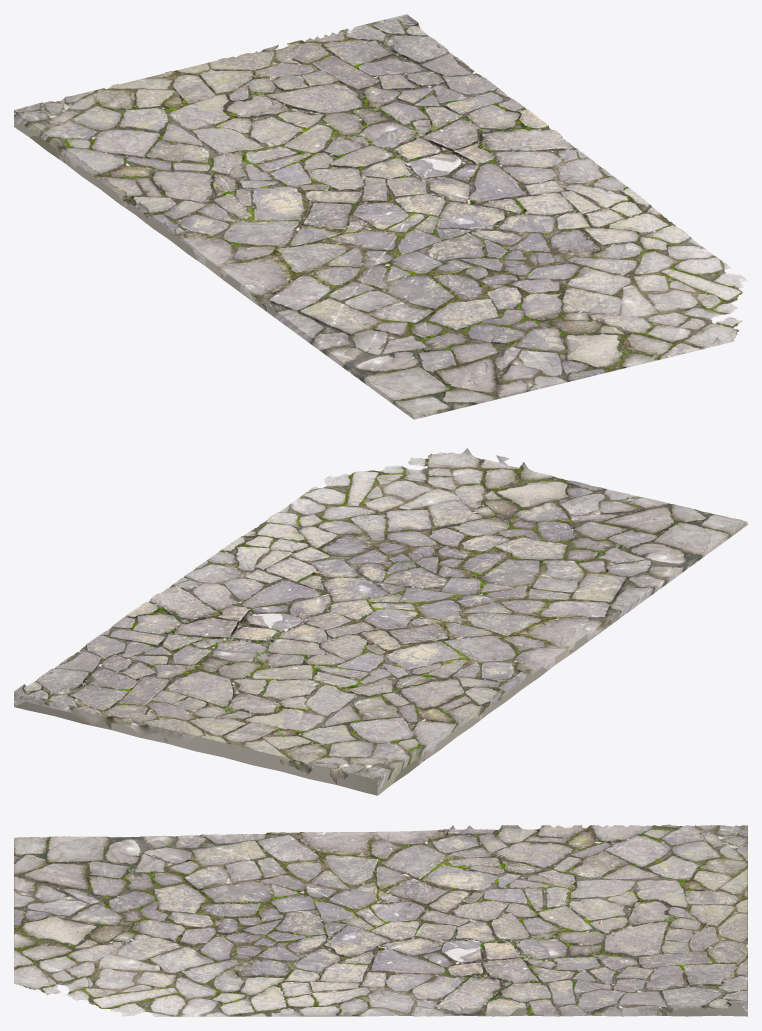
The model's file is ground.glb.
The picture shows the model from 3 angles, top to bottom: view 1: azimuth 30°, elevation 25°; view 2: azimuth 150°, elevation 25°; view 3: azimuth 270°, elevation 25°; orthographic projection. The views are drawn at different scales.
Visible parts, largest first — view 1: Object_2, Object_3, Object_4; view 2: Object_3, Object_2, Object_4; view 3: Object_2, Object_3, Object_4.
Boxes of the visible parts, <box> form: Object_2: <box>28,20,668,358</box>; Object_3: <box>14,14,738,415</box>; Object_4: <box>14,23,747,419</box>; Object_3: <box>14,454,746,795</box>; Object_2: <box>18,527,675,770</box>; Object_4: <box>26,448,747,795</box>; Object_2: <box>153,825,747,1016</box>; Object_3: <box>14,825,747,1016</box>; Object_4: <box>14,824,747,1016</box>.
Bounding box in the file's own units: 14.3 × 0.6116 × 25.22.
1 material, 1 textured.
